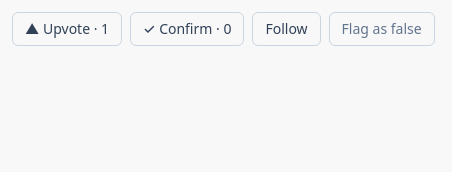
Test case: VoteBar › keeps the cached report and every report list in step with a vote
Click the button "▲ Upvote · 1". click: (67, 29)
box: [12,12,122,46]
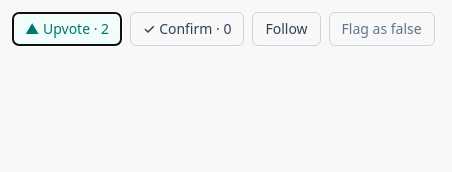
Result: the button "▲ Upvote · 2" is shown at [12,12,122,46]
